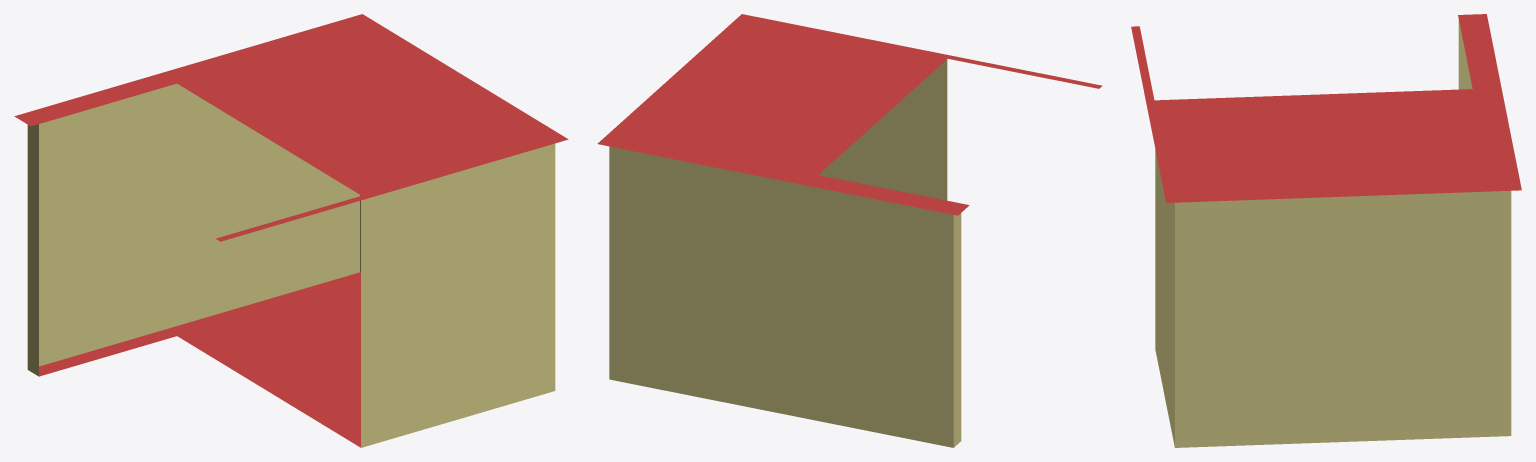
3 renders of one model, left to right at view 1: azimuth 30°, elevation 25°; view 2: azimuth 150°, elevation 25°; view 3: azimuth 270°, elevation 25°, orthographic. The views are drawn at different scales.
Size of the model in its own units: 11.58 by 10.12 by 7.12.
